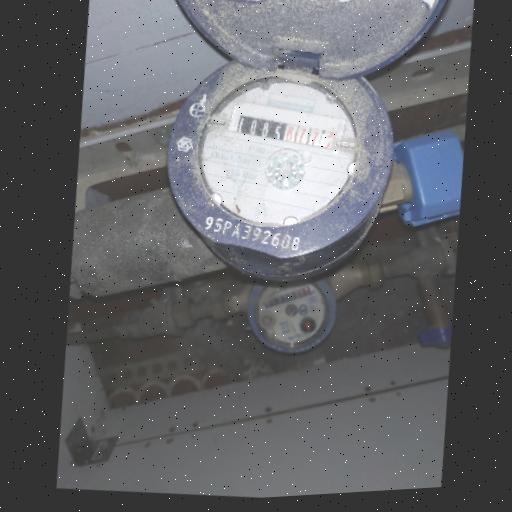0: (245, 116, 263, 138)
1: (235, 114, 250, 135)
5: (317, 128, 337, 151), (269, 120, 287, 142)
7: (293, 123, 312, 146), (307, 127, 324, 148)
8: (257, 118, 274, 140), (282, 123, 299, 144)
border_water_meter_number: (230, 103, 346, 160)
